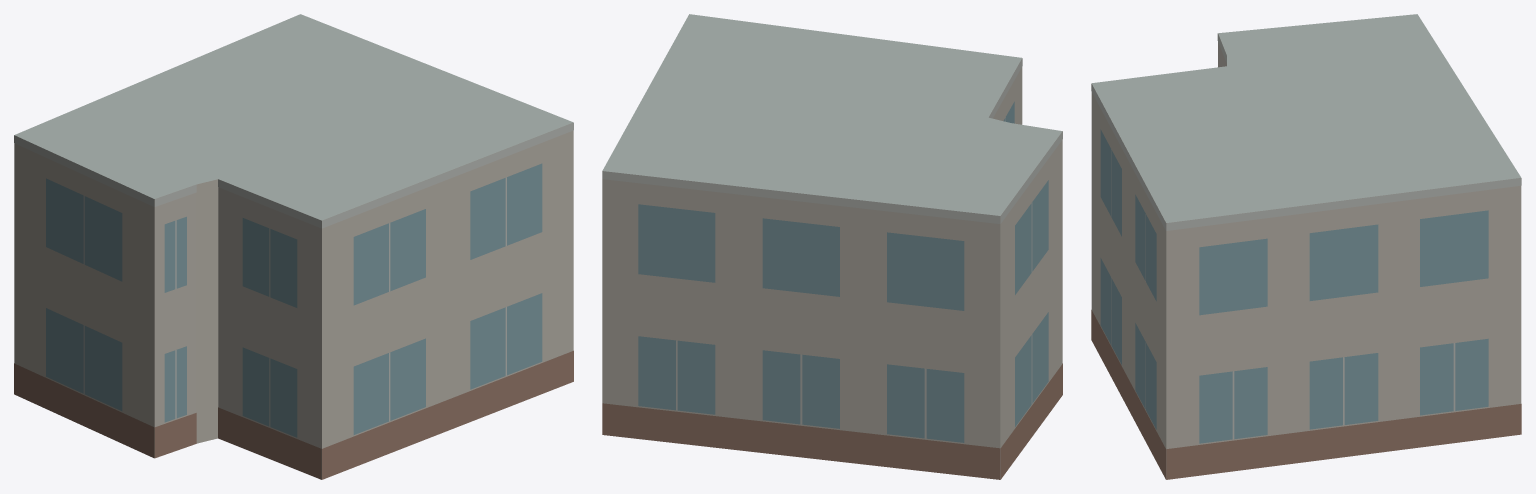
Rendered from survey-upis-32910952.glb.
3 renders of one model, left to right at view 1: azimuth 30°, elevation 25°; view 2: azimuth 150°, elevation 25°; view 3: azimuth 270°, elevation 25°, orthographic. The views are drawn at different scales.
Parts seen in each view (by area): view 1: survey-upis-32910952.tmp; view 2: survey-upis-32910952.tmp; view 3: survey-upis-32910952.tmp.
Boxes of the visible parts, left/top/right/bottom form: survey-upis-32910952.tmp: left=14, top=14, right=573, bottom=479; survey-upis-32910952.tmp: left=602, top=14, right=1062, bottom=479; survey-upis-32910952.tmp: left=1091, top=14, right=1521, bottom=479.
Size of the model in its own units: 13.81 by 7.9 by 12.
